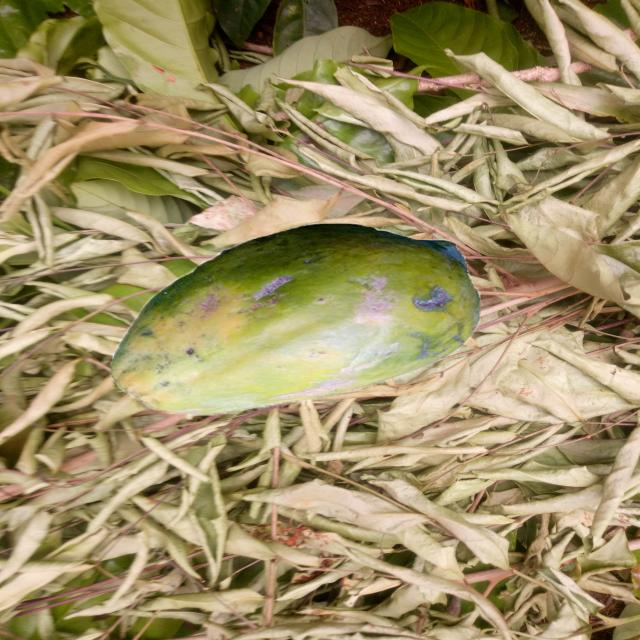Pepaya rippen: (104, 225, 482, 426)
